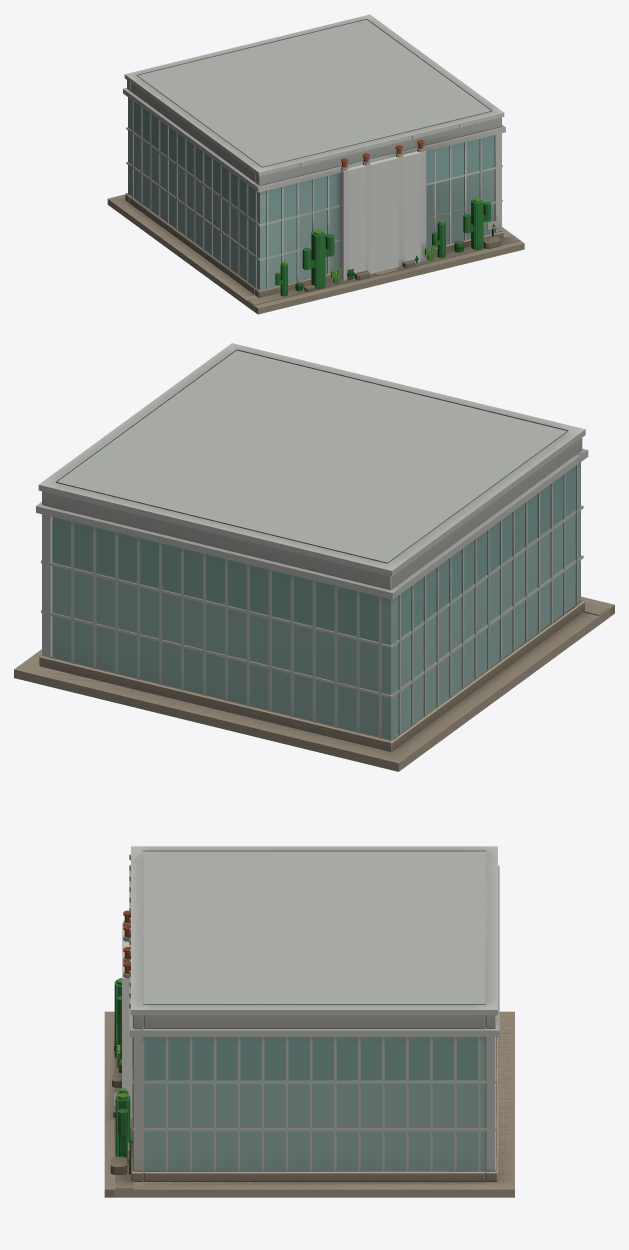
The model's file is GiantCactusFloor.fbx.
3 renders of one model, top to bottom at view 1: azimuth 30°, elevation 25°; view 2: azimuth 150°, elevation 25°; view 3: azimuth 270°, elevation 25°, orthographic. The views are drawn at different scales.
Parts seen in each view (by area): view 1: GK_S_All, GK_F_Rings, GK_F_Smooth, GK_F_Quiet, GK_F_Props; view 2: GK_S_All, GK_F_Rings, GK_F_Smooth, GK_F_Quiet; view 3: GK_S_All, GK_F_Rings, GK_F_Smooth, GK_F_Quiet, GK_F_Props.
Part boxes in pixels (x1,y1,x2,y2): GK_S_All: (107,18,520,311); GK_F_Rings: (123,14,505,294); GK_F_Smooth: (123,74,524,314); GK_F_Quiet: (108,101,524,308); GK_F_Props: (275,197,500,291); GK_S_All: (14,349,610,771); GK_F_Rings: (36,343,587,751); GK_F_Smooth: (36,429,614,751); GK_F_Quiet: (33,466,614,762); GK_S_All: (114,850,514,1197); GK_F_Rings: (129,846,499,1181); GK_F_Smooth: (104,854,499,1197); GK_F_Quiet: (104,1011,514,1189); GK_F_Props: (110,978,132,1174).
Size of the model in its own units: 60 by 20 by 60.
